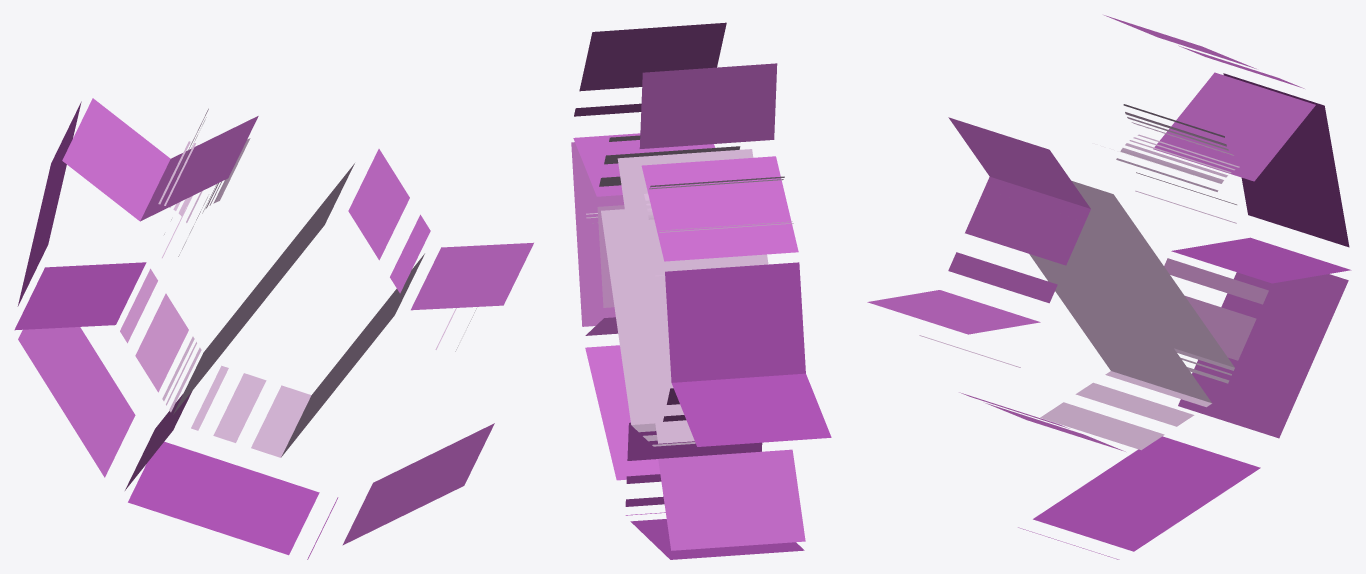
The model's file is gemstones.glb.
The picture shows the model from 3 angles, left to right: view 1: azimuth 30°, elevation 25°; view 2: azimuth 150°, elevation 25°; view 3: azimuth 270°, elevation 25°; orthographic projection. The views are drawn at different scales.
Visible parts, largest first — view 1: Gem 1.svg; view 2: Gem 1.svg; view 3: Gem 1.svg.
Part boxes in pixels (x1,y1,x2,y2): Gem 1.svg: (14,98,533,559); Gem 1.svg: (571,22,831,559); Gem 1.svg: (867,15,1351,559).
Size of the model in its own units: 1.63 by 1.91 by 1.72.
